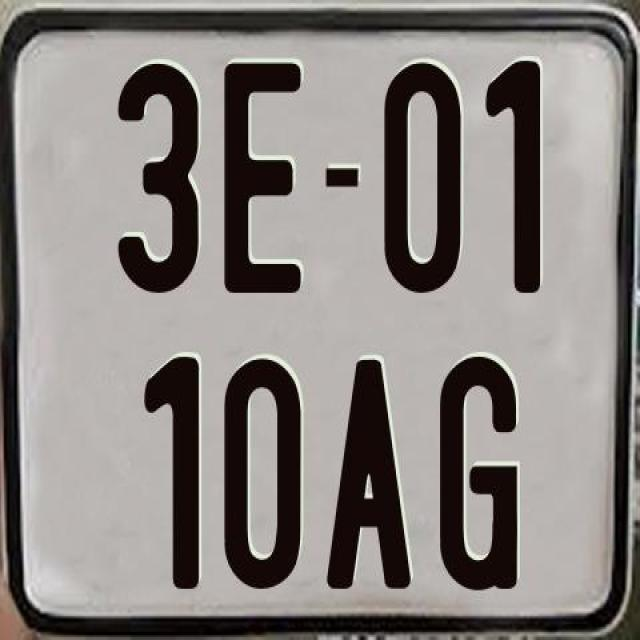0: (384, 62, 462, 301), (221, 353, 299, 588)
1: (484, 58, 544, 294), (142, 355, 198, 587)
3: (113, 61, 199, 290)
A: (324, 360, 414, 597)
E: (222, 58, 302, 292)
G: (438, 352, 524, 592)
